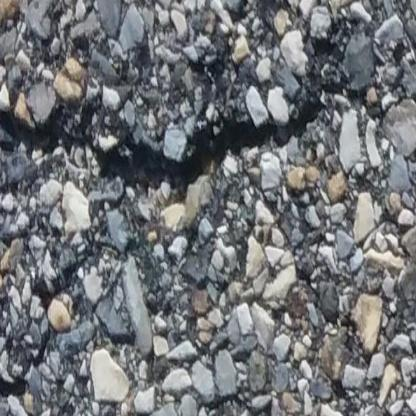Cracks: (0, 25, 343, 202), (259, 0, 281, 28)
